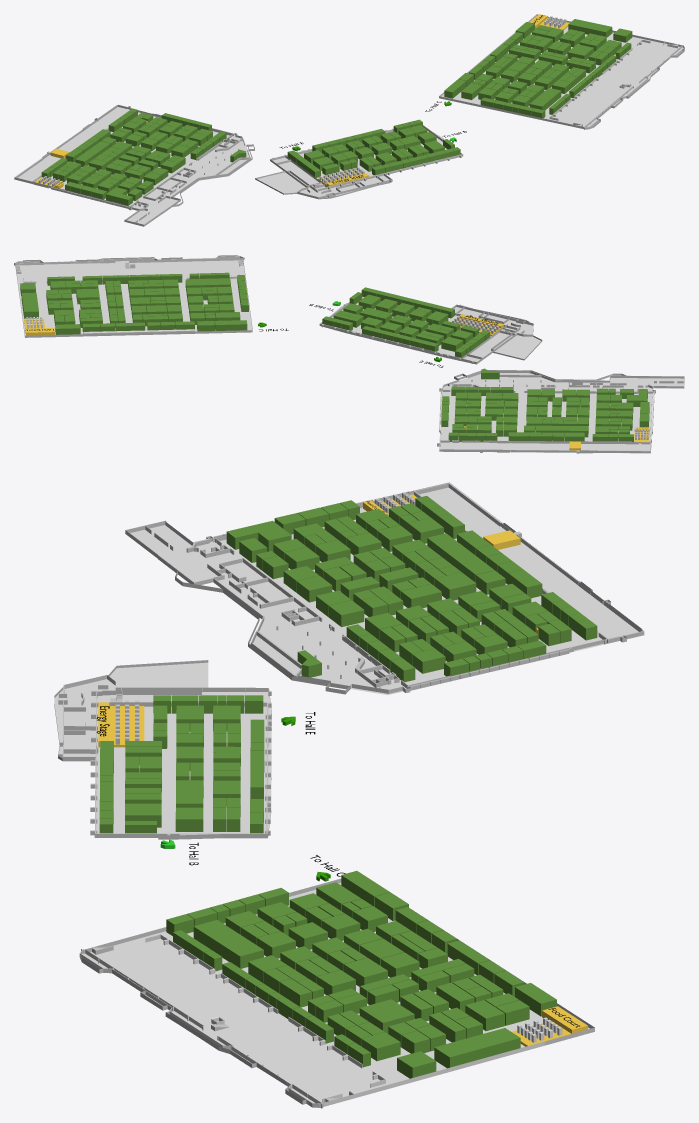
File: all_in_one.glb
3 renders of one model, top to bottom at view 1: azimuth 30°, elevation 25°; view 2: azimuth 150°, elevation 25°; view 3: azimuth 270°, elevation 25°, orthographic. The views are drawn at different scales.
Parts seen in each view (by area): view 1: Plane.001, Background_curve_.001, Building_curve_.013, Plane, Building_curve_, Building_curve_.002, Background_curve_, BOOTHLAYER_curve_.B-3190, BOOTHLAYER_curve_.B-6030, BOOTHLAYER_curve_.E-2050, BOOTHLAYER_curve_.E-6000; view 2: Background_curve_.001, Plane.001, Building_curve_.013, Plane, Building_curve_, Building_curve_.002, Background_curve_, Background, BOOTHLAYER_curve_.B-6030, BOOTHLAYER_curve_.E-2050, BOOTHLAYER_curve_.B-3190, BOOTHLAYER_curve_.B-1000 (+2 smaller); view 3: Plane.001, Background_curve_.001, Plane, Building_curve_.013, Building_curve_.002, Building_curve_, Background_curve_, BOOTHLAYER_curve_.B-3190, BOOTHLAYER_curve_.B-6030, Background, BOOTHLAYER_curve_.E-2050, Energy_Stage.001 (+3 smaller).
Part boxes in pixels (x1=…): Plane.001: x1=441, y1=26, x2=682, y2=127; Background_curve_.001: x1=18, y1=107, x2=249, y2=226; Building_curve_.013: x1=14, y1=104, x2=254, y2=226; Plane: x1=257, y1=131, x2=447, y2=197; Building_curve_: x1=270, y1=125, x2=463, y2=199; Building_curve_.002: x1=439, y1=14, x2=684, y2=129; Background_curve_: x1=439, y1=20, x2=684, y2=129; BOOTHLAYER_curve_.B-3190: x1=568, y1=19, x2=612, y2=37; BOOTHLAYER_curve_.B-6030: x1=529, y1=88, x2=561, y2=110; BOOTHLAYER_curve_.E-2050: x1=75, y1=141, x2=110, y2=166; BOOTHLAYER_curve_.E-6000: x1=106, y1=187, x2=132, y2=205; Background_curve_.001: x1=439, y1=373, x2=684, y2=453; Plane.001: x1=16, y1=260, x2=252, y2=335; Building_curve_.013: x1=437, y1=370, x2=684, y2=453; Plane: x1=332, y1=296, x2=540, y2=361; Building_curve_: x1=319, y1=302, x2=533, y2=363; Building_curve_.002: x1=14, y1=256, x2=244, y2=334; Background_curve_: x1=14, y1=255, x2=252, y2=337; Background: x1=319, y1=303, x2=542, y2=364; BOOTHLAYER_curve_.B-6030: x1=185, y1=278, x2=230, y2=291; BOOTHLAYER_curve_.E-2050: x1=536, y1=425, x2=588, y2=437; BOOTHLAYER_curve_.B-3190: x1=21, y1=292, x2=38, y2=318; BOOTHLAYER_curve_.B-1000: x1=215, y1=320, x2=247, y2=330; Plane.001: x1=82, y1=882, x2=589, y2=1103; Background_curve_.001: x1=130, y1=487, x2=643, y2=695; Plane: x1=54, y1=662, x2=271, y2=833; Building_curve_.013: x1=125, y1=482, x2=644, y2=694; Building_curve_.002: x1=80, y1=909, x2=594, y2=1108; Building_curve_: x1=58, y1=675, x2=271, y2=838; Background_curve_: x1=79, y1=878, x2=594, y2=1108; BOOTHLAYER_curve_.B-3190: x1=434, y1=1028, x2=520, y2=1068; BOOTHLAYER_curve_.B-6030: x1=193, y1=920, x2=263, y2=968; Background: x1=54, y1=660, x2=271, y2=839; BOOTHLAYER_curve_.E-2050: x1=427, y1=533, x2=494, y2=582; Energy_Stage.001: x1=98, y1=702, x2=144, y2=747.
Size of the model in its own units: 273 by 2.66 by 109.
